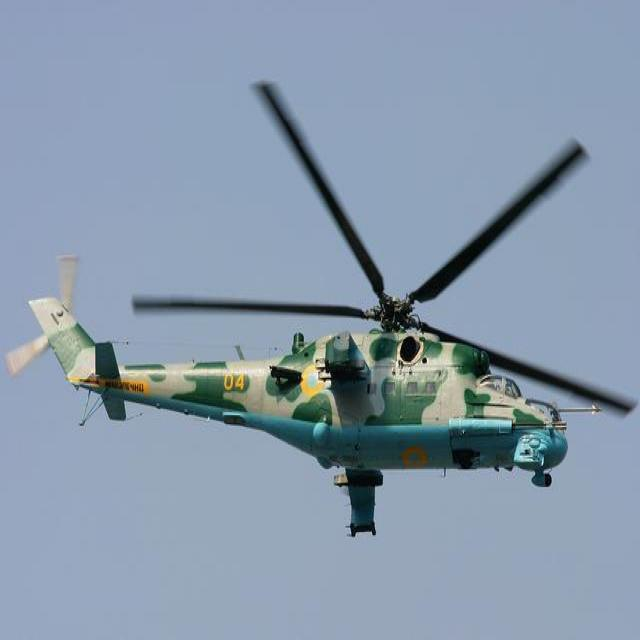MIL_HELO: (1, 70, 640, 547)
